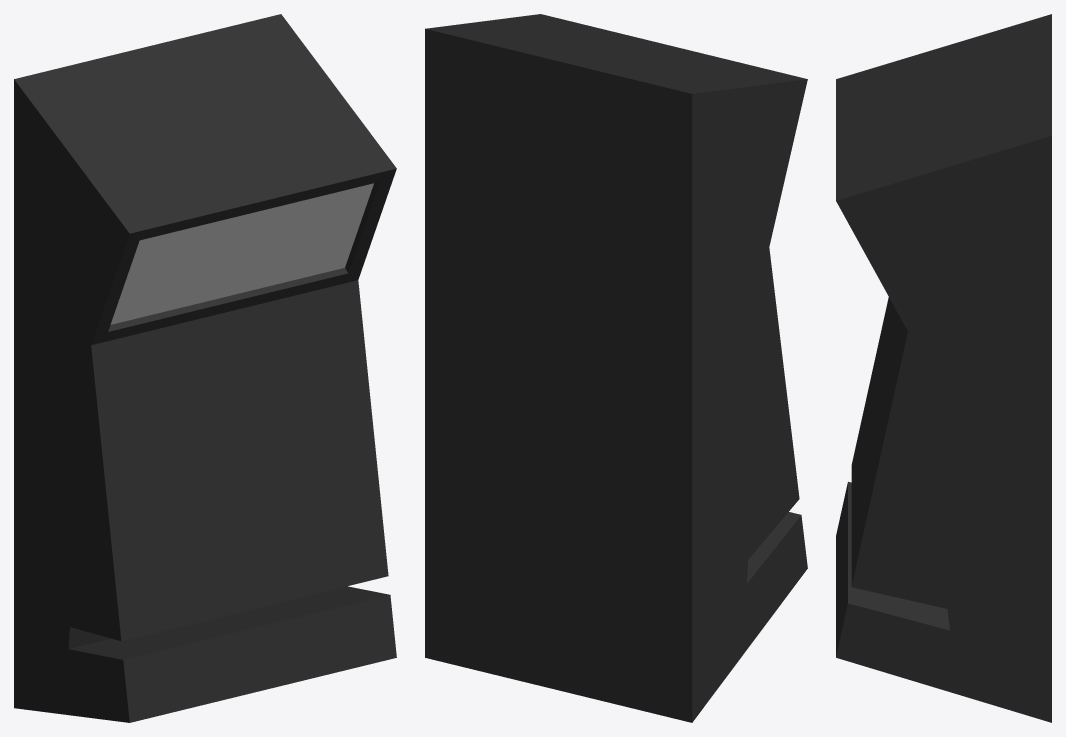
The model's file is CardReader.fbx.
3 renders of one model, left to right at view 1: azimuth 30°, elevation 25°; view 2: azimuth 150°, elevation 25°; view 3: azimuth 270°, elevation 25°, orthographic. The views are drawn at different scales.
Parts seen in each view (by area): view 1: CardReader; view 2: CardReader; view 3: CardReader.
Part boxes in pixels (<box>): CardReader: <box>14,14,396,722</box>; CardReader: <box>425,14,807,722</box>; CardReader: <box>836,14,1051,722</box>.
Bounding box in the file's own units: 20 × 45 × 15.
